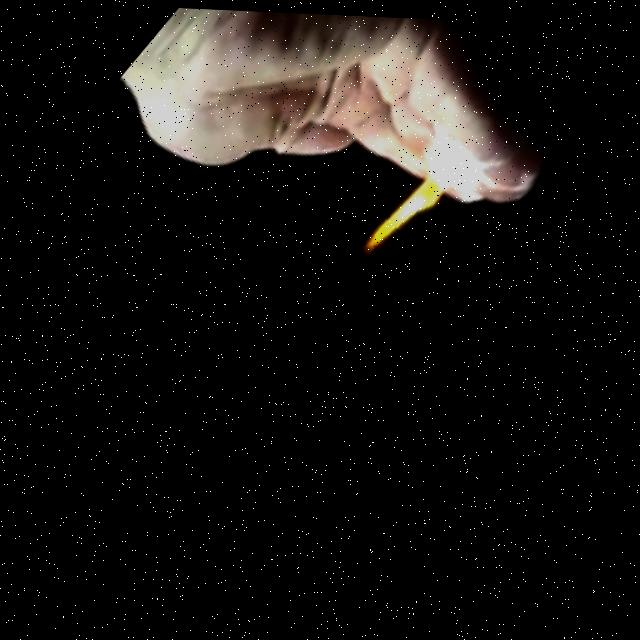Fire: (335, 124, 485, 278)
